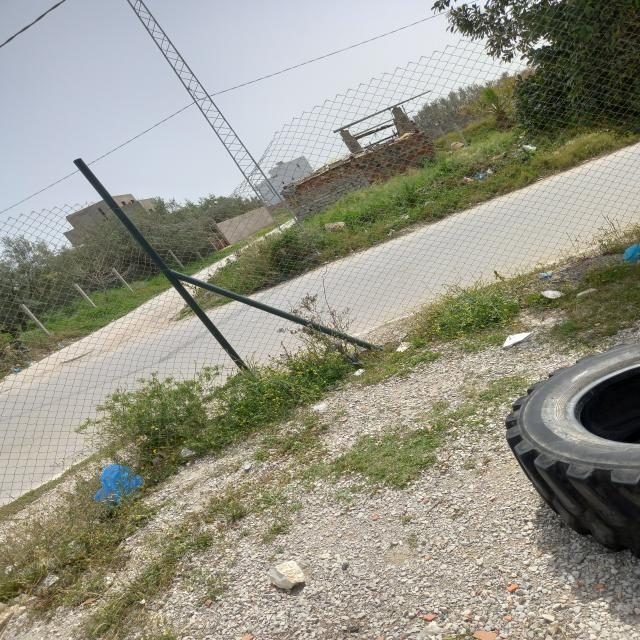fence line: (140, 165, 288, 204)
